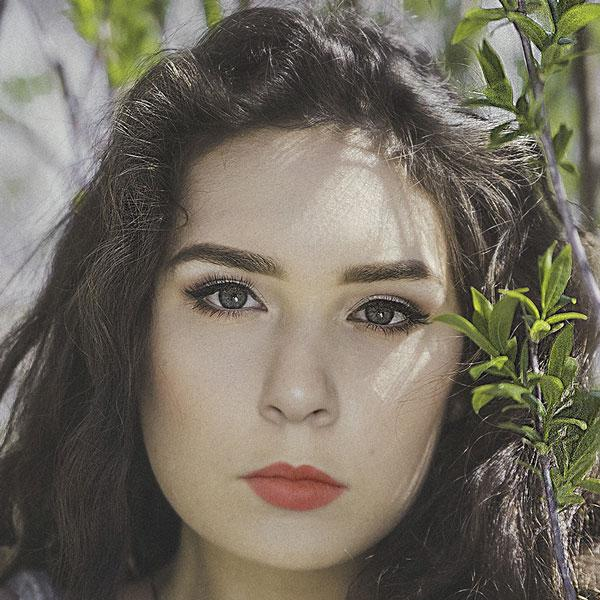Eyes: (177, 268, 278, 327), (338, 285, 433, 340)
